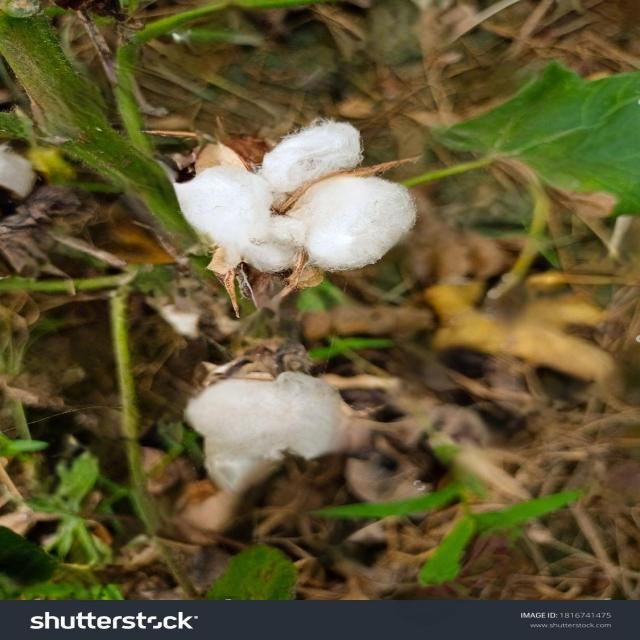Late_blight: (125, 105, 457, 323), (163, 332, 367, 515)
